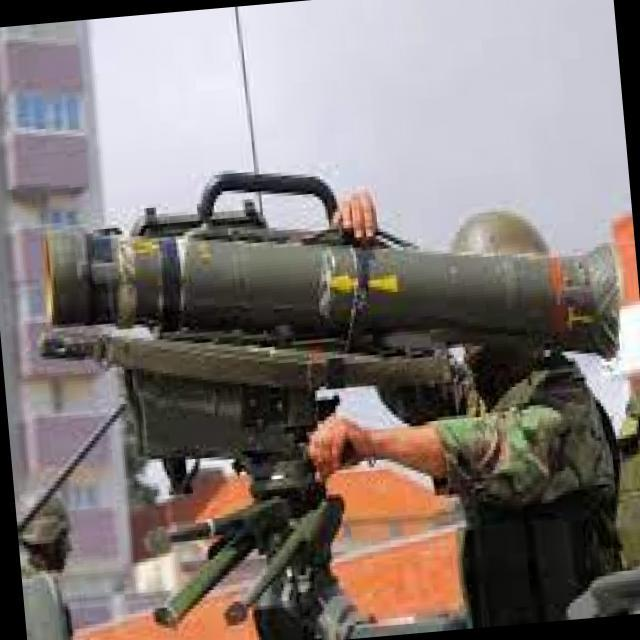rocket: (45, 176, 618, 398)
